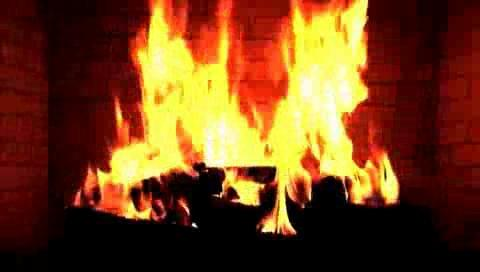fire: (127, 6, 386, 205)
